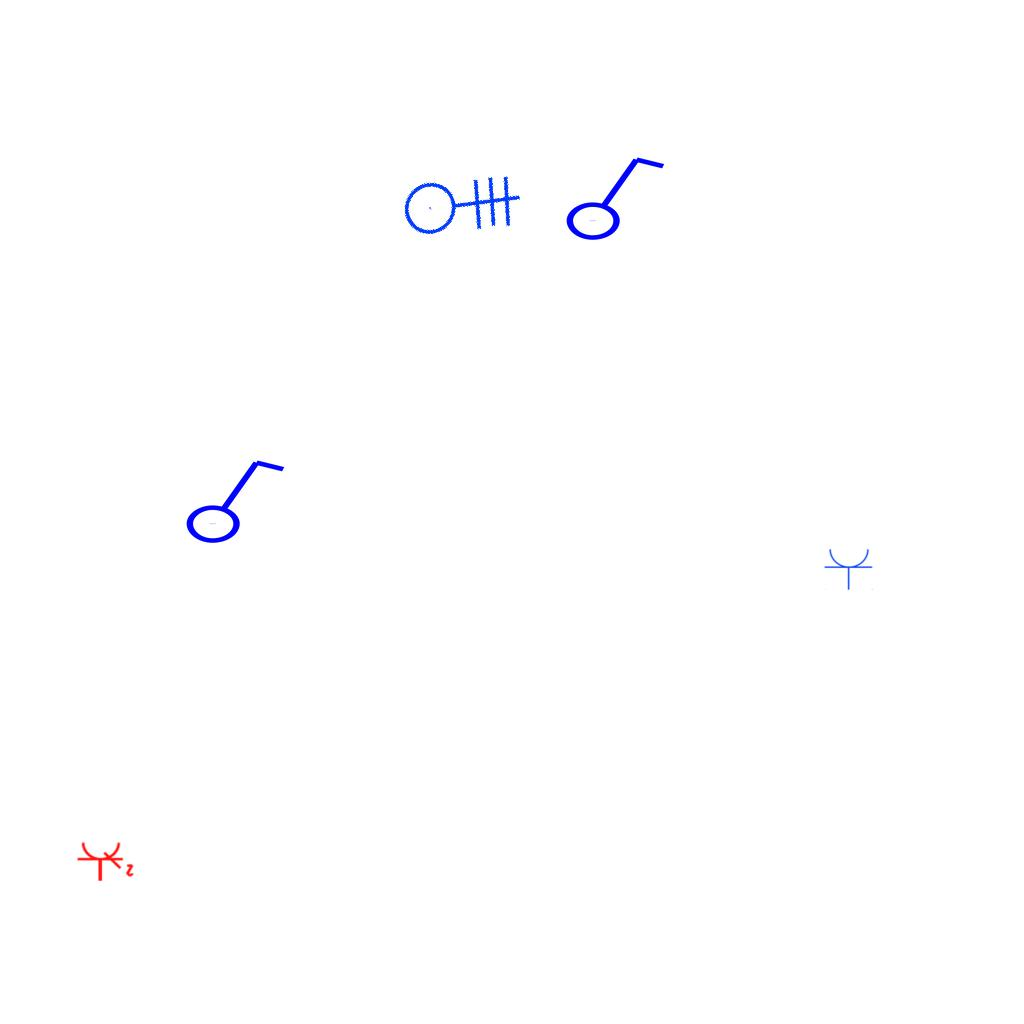Ausschalter: (175, 450, 287, 546), (555, 147, 667, 243)
Elektroanschluss_allgemein_400V_Geraeteanschlussdose_400V: (380, 115, 542, 276)
Schukosteckdose_einfach: (824, 547, 874, 590)
Schukosteckdose_mehrfach: (75, 840, 135, 884)
